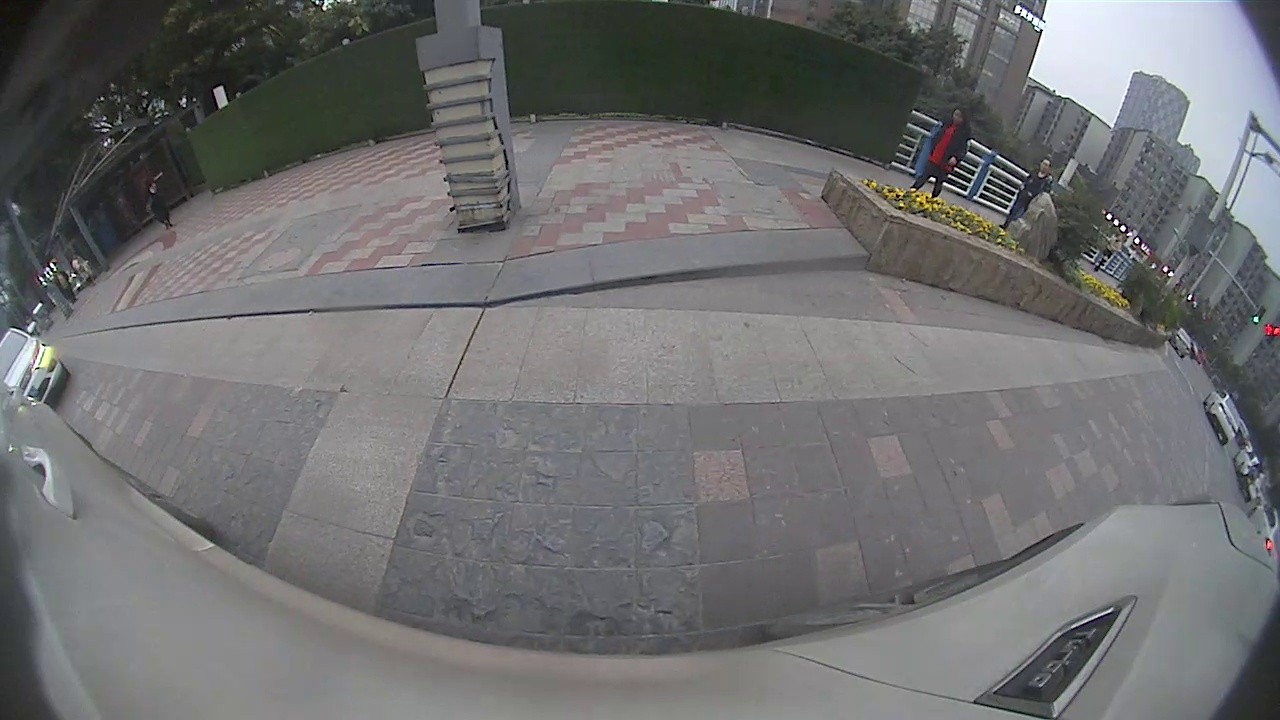car: (0, 323, 70, 406)
person: (924, 105, 972, 197)
